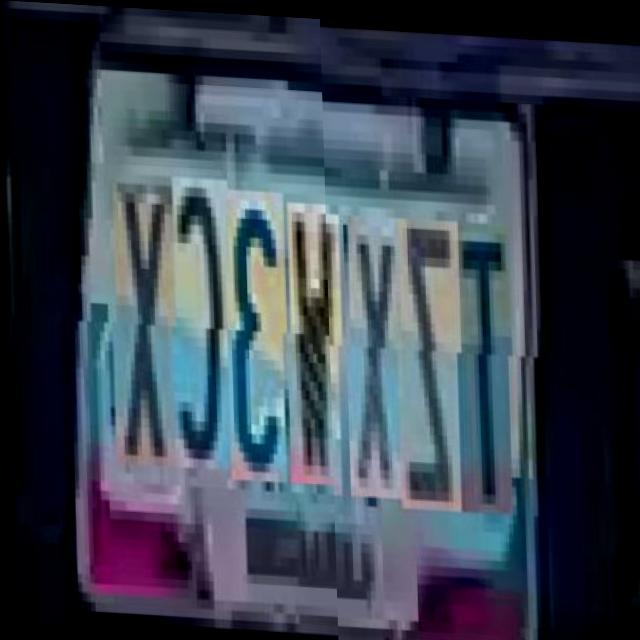3: (222, 196, 285, 489)
c: (167, 184, 229, 477)
t: (447, 215, 510, 508)
w: (282, 208, 340, 491)
x: (107, 190, 174, 475), (341, 211, 399, 494)
z: (393, 213, 459, 506)
